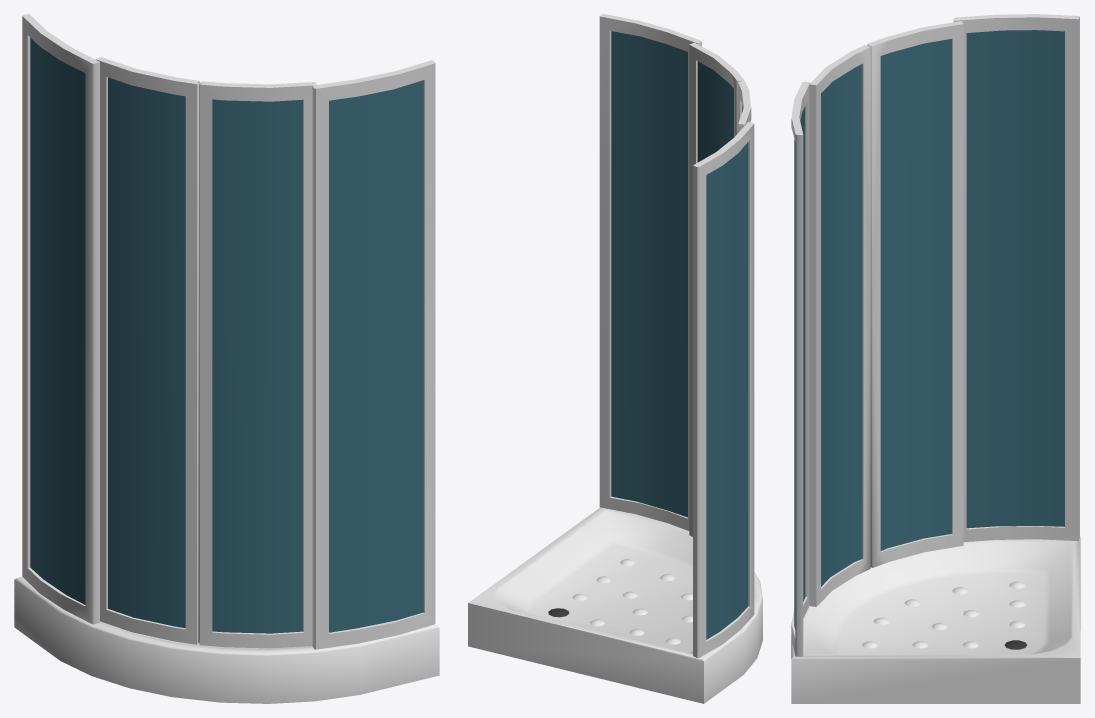
File: YT36031ShowerBathroom.FBX
3 views of the same model, side by side, from view 1: azimuth 30°, elevation 25°; view 2: azimuth 150°, elevation 25°; view 3: azimuth 270°, elevation 25° (orthographic). The views are drawn at different scales.
Parts seen in each view (by area): view 1: YT36031ShowerBathroom; view 2: YT36031ShowerBathroom; view 3: YT36031ShowerBathroom.
Boxes of the visible parts, box(x1,y1,x2,y2) form: YT36031ShowerBathroom: box(14, 14, 439, 703); YT36031ShowerBathroom: box(468, 14, 762, 703); YT36031ShowerBathroom: box(791, 14, 1080, 703).
Bounding box in the file's own units: 2286 × 4953 × 2286.
